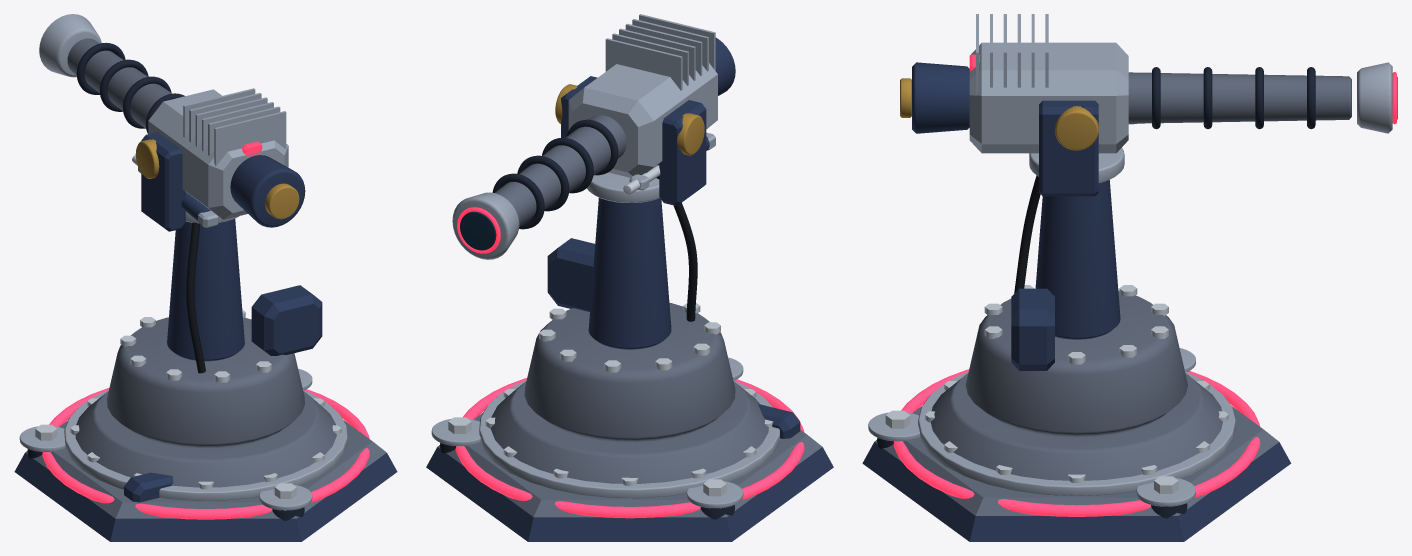
The model's file is tower_filament_chassis.glb.
The picture shows the model from 3 angles, left to right: view 1: azimuth 30°, elevation 25°; view 2: azimuth 150°, elevation 25°; view 3: azimuth 270°, elevation 25°; orthographic projection. The views are drawn at different scales.
Visible parts, largest first — view 1: filament_yaw_drum, filament_collar, filament_baseplate, filament_mast, filament_body, filament_radiator, filament_baseplate_bevel, filament_flange, filament_seam, filament_power_box, filament_emitter_tube, filament_breech (+13 smaller); view 2: filament_yaw_drum, filament_collar, filament_mast, filament_baseplate, filament_body, filament_radiator, filament_flange, filament_baseplate_bevel, filament_emitter_tube, filament_seam, filament_yoke_r, filament_power_box (+17 smaller); view 3: filament_yaw_drum, filament_collar, filament_body, filament_baseplate, filament_mast, filament_emitter_tube, filament_flange, filament_baseplate_bevel, filament_seam, filament_yoke_l, filament_breech, filament_power_box (+9 smaller).
Part boxes in pixels (x1=…): filament_yaw_drum: x1=107, y1=317, x2=304, y2=448; filament_collar: x1=75, y1=391, x2=336, y2=487; filament_baseplate: x1=14, y1=453, x2=397, y2=541; filament_mast: x1=167, y1=218, x2=244, y2=361; filament_body: x1=148, y1=89, x2=288, y2=219; filament_radiator: x1=183, y1=88, x2=286, y2=166; filament_baseplate_bevel: x1=25, y1=420, x2=386, y2=518; filament_flange: x1=64, y1=390, x2=347, y2=500; filament_seam: x1=42, y1=388, x2=369, y2=519; filament_power_box: x1=251, y1=285, x2=322, y2=355; filament_emitter_tube: x1=67, y1=38, x2=171, y2=128; filament_breech: x1=230, y1=155, x2=305, y2=227; filament_yaw_drum: x1=524, y1=302, x2=735, y2=442; filament_collar: x1=490, y1=381, x2=768, y2=483; filament_mast: x1=588, y1=197, x2=671, y2=349; filament_baseplate: x1=426, y1=447, x2=833, y2=541; filament_body: x1=568, y1=63, x2=717, y2=177; filament_radiator: x1=605, y1=14, x2=715, y2=90; filament_flange: x1=479, y1=380, x2=779, y2=498; filament_baseplate_bevel: x1=437, y1=412, x2=822, y2=517; filament_emitter_tube: x1=495, y1=115, x2=626, y2=226; filament_seam: x1=455, y1=378, x2=804, y2=518; filament_yoke_r: x1=659, y1=100, x2=706, y2=205; filament_power_box: x1=547, y1=238, x2=595, y2=311; filament_yaw_drum: x1=965, y1=290, x2=1187, y2=437; filament_collar: x1=930, y1=373, x2=1222, y2=480; filament_body: x1=969, y1=42, x2=1128, y2=153; filament_baseplate: x1=862, y1=442, x2=1291, y2=541; filament_mast: x1=1035, y1=180, x2=1120, y2=339; filament_emitter_tube: x1=1128, y1=72, x2=1351, y2=123; filament_flange: x1=918, y1=371, x2=1235, y2=495; filament_baseplate_bevel: x1=874, y1=406, x2=1278, y2=515; filament_seam: x1=893, y1=369, x2=1260, y2=516; filament_yoke_l: x1=1039, y1=100, x2=1098, y2=196; filament_breech: x1=912, y1=62, x2=969, y2=133; filament_power_box: x1=1011, y1=288, x2=1054, y2=370.
Bounding box in the file's own units: 1.87 × 2.39 × 2.7.
